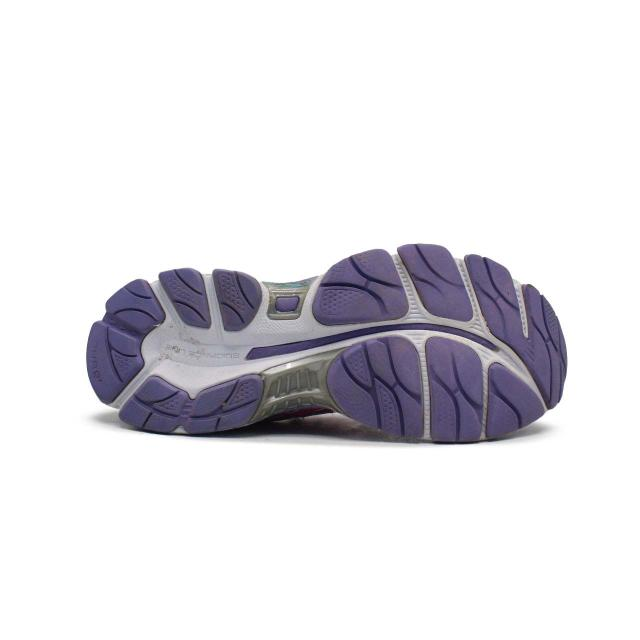outersole: (82, 246, 566, 440)
